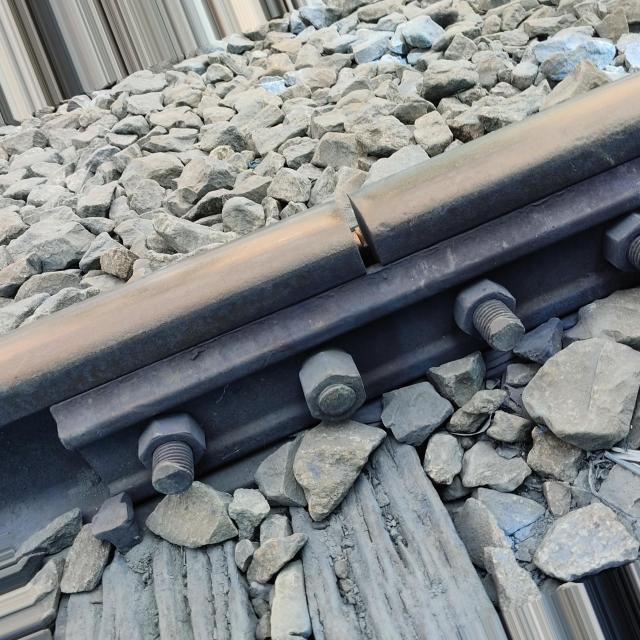broken_rail_medium: (572, 114, 640, 144), (374, 221, 394, 244), (401, 210, 412, 220)
